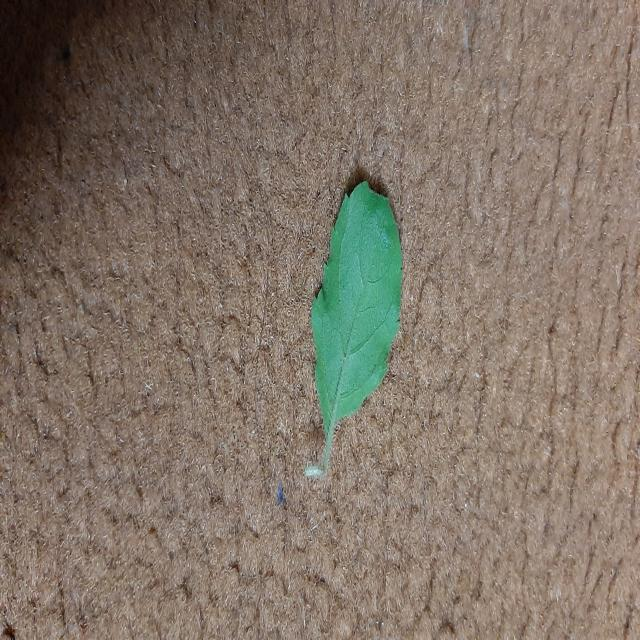tulsi: (305, 182, 402, 477)
